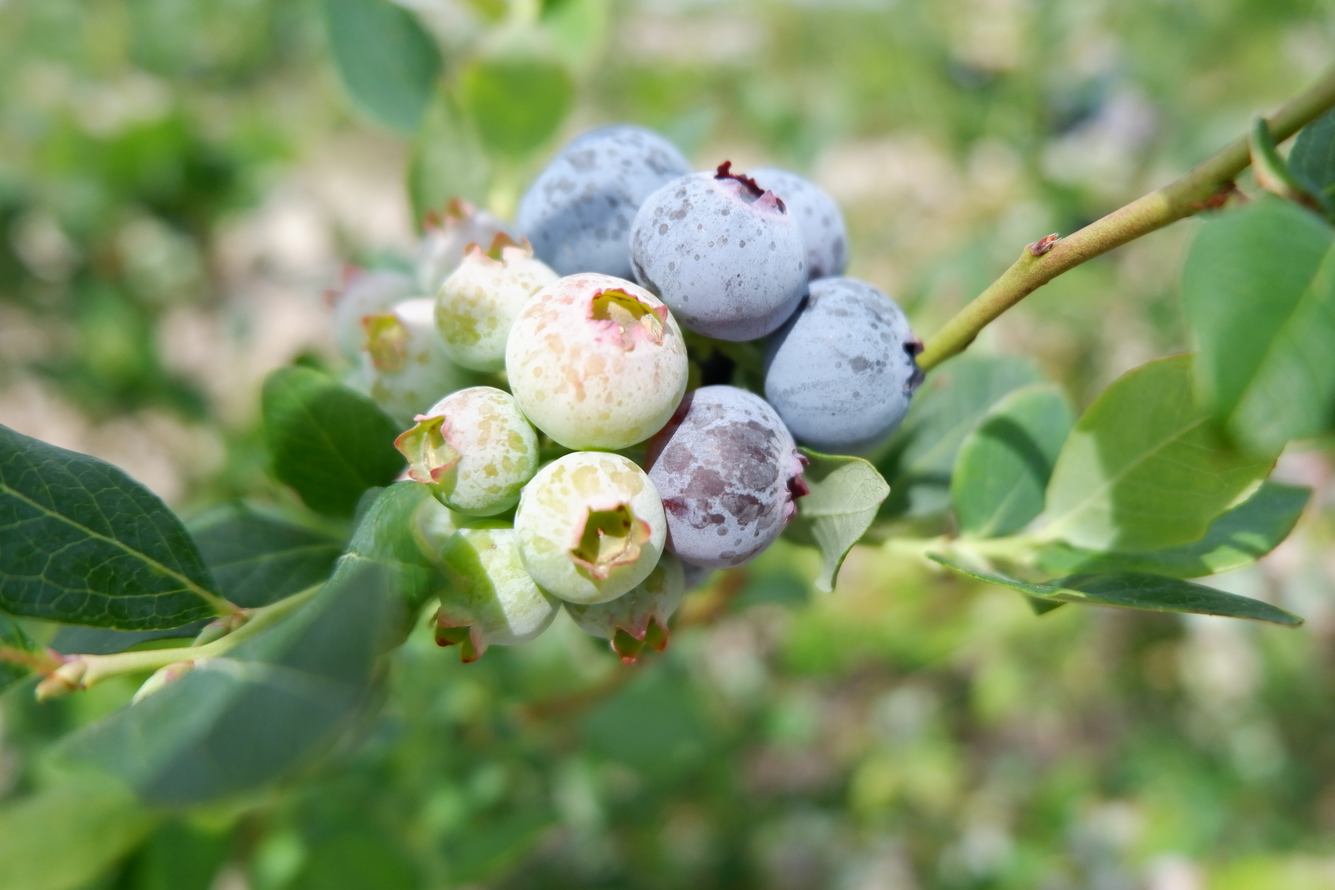Immature: (510, 276, 685, 447), (519, 456, 662, 602), (399, 388, 537, 511), (434, 239, 554, 368), (436, 527, 555, 657), (359, 300, 474, 425), (568, 554, 682, 657), (413, 197, 515, 299), (324, 267, 414, 357)
Mature: (633, 173, 804, 337), (647, 390, 804, 566), (767, 282, 919, 449), (522, 127, 688, 277), (744, 169, 848, 281), (681, 556, 709, 586)
